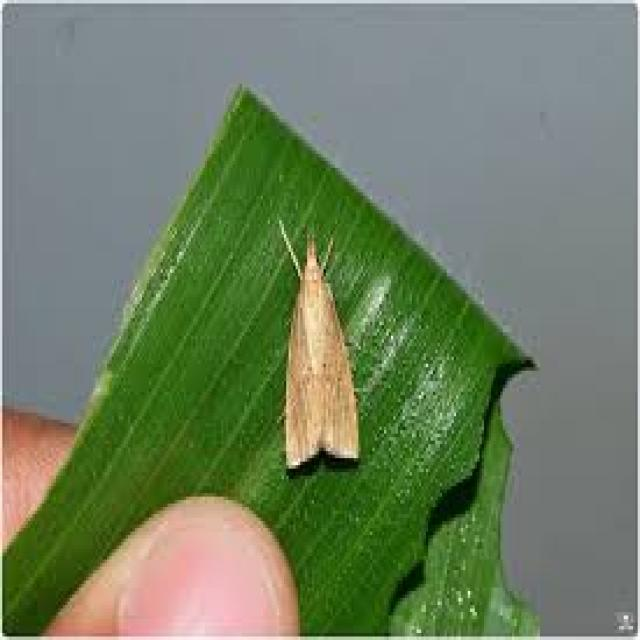yellow-stem-borer: (226, 206, 437, 515)
